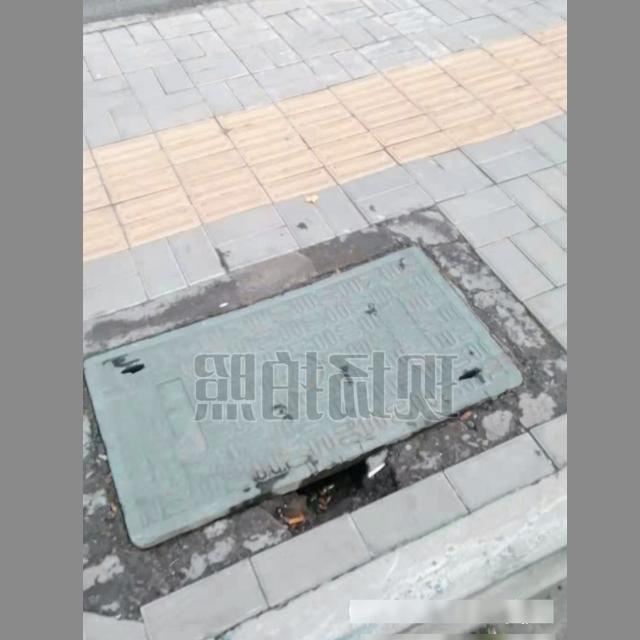circle: (83, 206, 561, 581)
